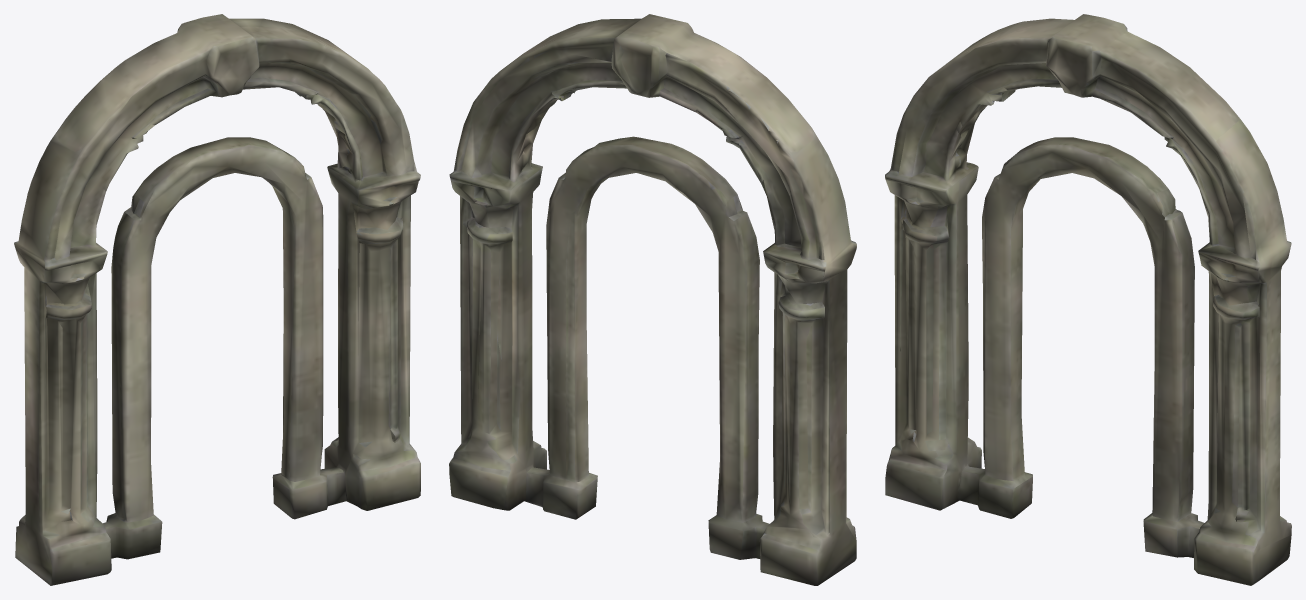
File: ornate-limestone-arched-doorway-v001.glb
3 renders of one model, left to right at view 1: azimuth 30°, elevation 25°; view 2: azimuth 150°, elevation 25°; view 3: azimuth 330°, elevation 25°, orthographic.
Parts seen in each view (by area): view 1: ornate-limestone-arched-doorway; view 2: ornate-limestone-arched-doorway; view 3: ornate-limestone-arched-doorway.
Part boxes in pixels (bbox=[...]): ornate-limestone-arched-doorway: bbox=[14, 14, 420, 585]; ornate-limestone-arched-doorway: bbox=[449, 14, 856, 585]; ornate-limestone-arched-doorway: bbox=[885, 14, 1291, 585].
Bounding box in the file's own units: 2.4 × 3.04 × 0.4423.
1 material, 1 textured.
